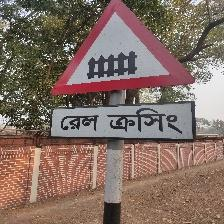Rail-crossing: (45, 1, 197, 144)
